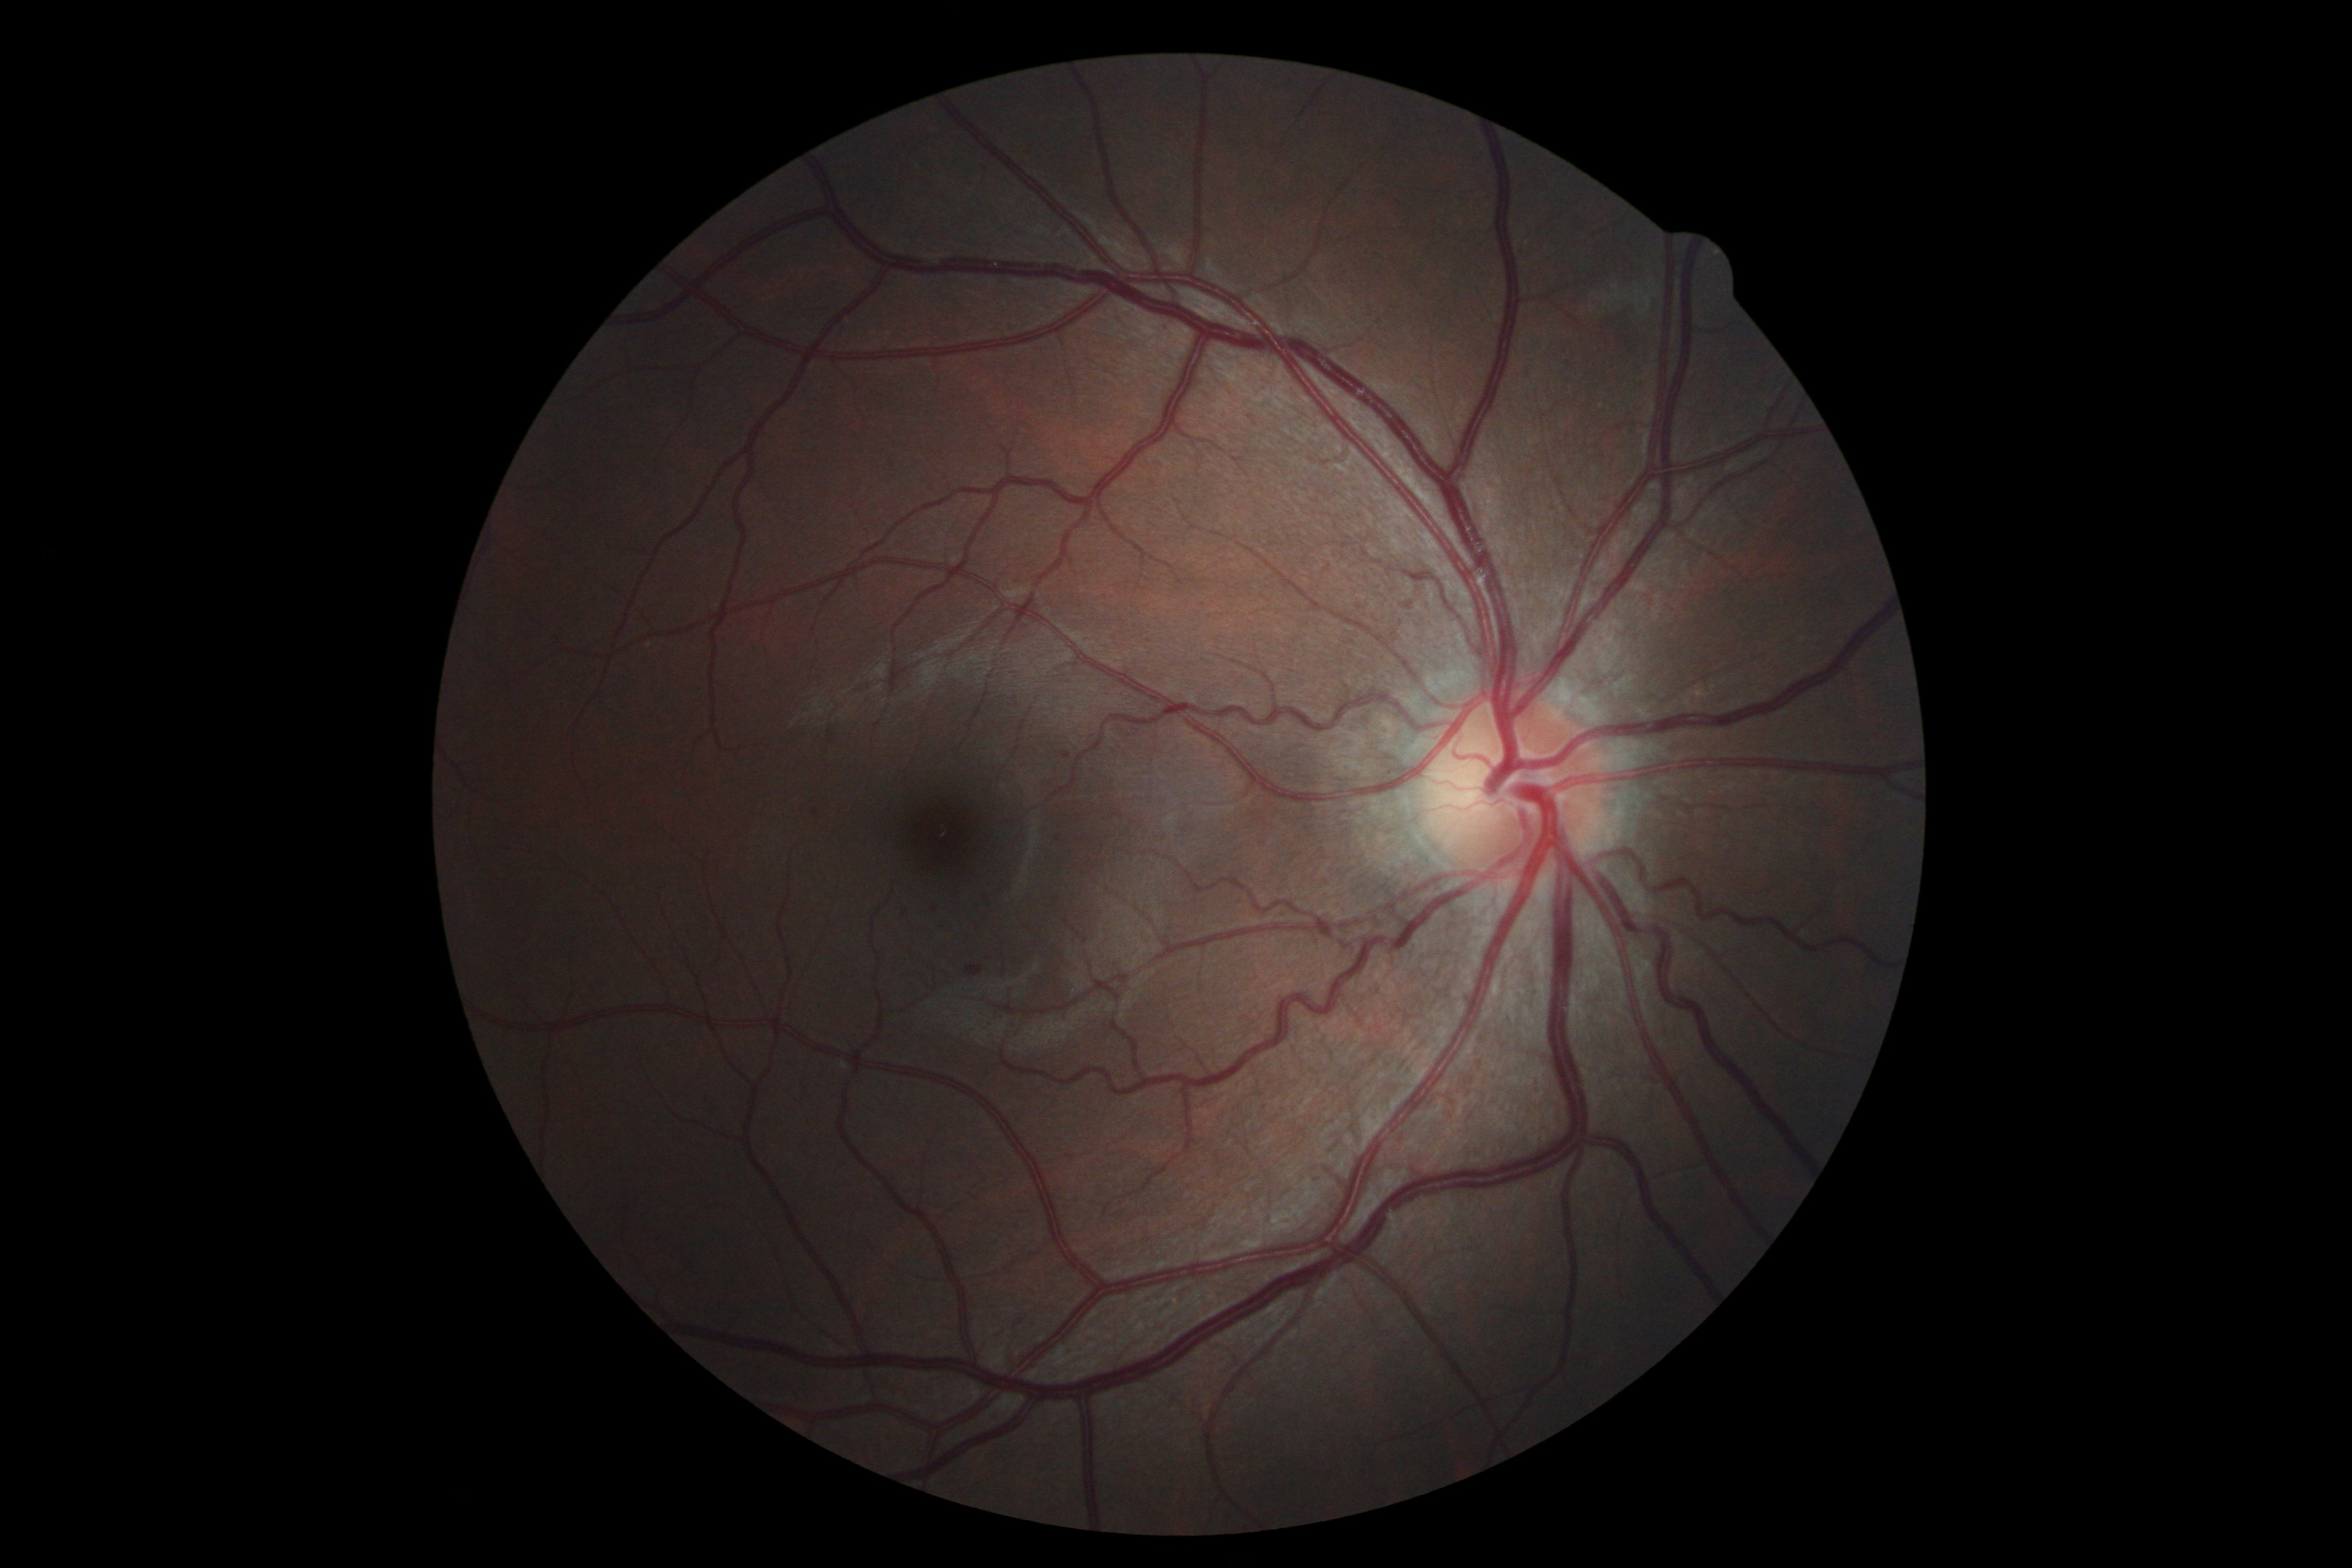Fovea: (838, 758, 1038, 920)
OD: (1412, 681, 1624, 908)
